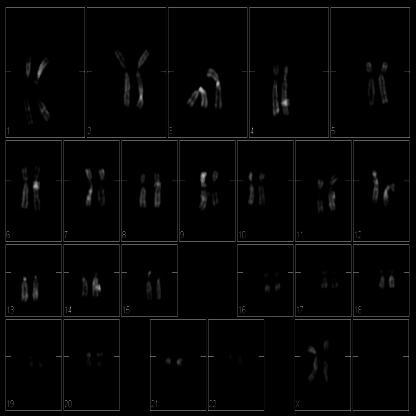1: (22, 42, 34, 127)
10: (256, 169, 268, 210), (245, 169, 256, 209)
11: (327, 170, 340, 214), (314, 175, 326, 217)
12: (369, 168, 381, 209), (380, 182, 397, 210)
13: (30, 270, 40, 306), (20, 273, 30, 305)
14: (78, 268, 90, 300), (90, 270, 102, 302)
15: (144, 266, 154, 304), (154, 274, 164, 302)
16: (260, 268, 273, 296), (272, 266, 283, 296)
17: (329, 265, 339, 292), (319, 268, 330, 290)
18: (386, 266, 397, 292), (376, 266, 386, 291)
19: (36, 350, 46, 374), (26, 350, 35, 372)
2: (112, 45, 132, 112), (33, 56, 52, 124), (135, 48, 151, 112)
20: (94, 350, 106, 372), (84, 348, 93, 370)
21: (162, 352, 174, 368), (174, 356, 186, 372)
22: (224, 348, 236, 371), (235, 353, 244, 371)
3: (203, 64, 224, 112), (184, 85, 209, 113)
4: (270, 60, 282, 119), (280, 63, 291, 118)
5: (364, 58, 376, 110), (378, 60, 390, 108)
6: (31, 162, 44, 214), (19, 162, 30, 214)
7: (95, 166, 108, 210), (83, 164, 95, 211)
8: (151, 170, 163, 210), (137, 172, 148, 210)
9: (196, 167, 211, 214), (210, 168, 221, 209)
X: (304, 341, 318, 386), (321, 335, 332, 387)
